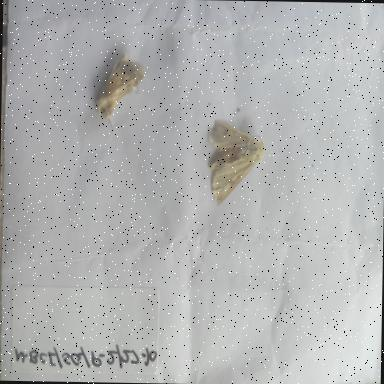abw: (197, 114, 269, 207), (85, 43, 148, 131)
